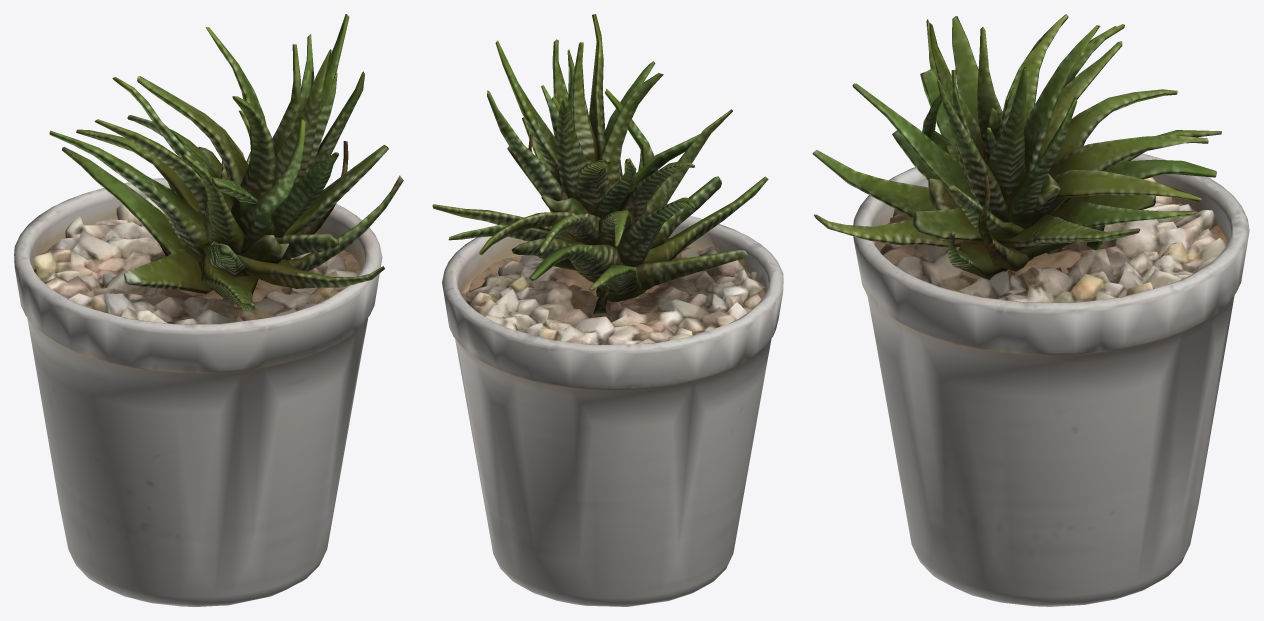
File: potted_plant_04.glb
3 renders of one model, left to right at view 1: azimuth 30°, elevation 25°; view 2: azimuth 150°, elevation 25°; view 3: azimuth 270°, elevation 25°, orthographic. The views are drawn at different scales.
Parts seen in each view (by area): view 1: potted_plant_04_ground; view 2: potted_plant_04_ground; view 3: potted_plant_04_ground.
Part boxes in pixels (<box>): potted_plant_04_ground: <box>14,14,403,606</box>; potted_plant_04_ground: <box>432,14,783,606</box>; potted_plant_04_ground: <box>812,14,1249,606</box>.
Size of the model in its own units: 0.1674 by 0.2672 by 0.1847.
Materials: 1 (1 with a texture image).
